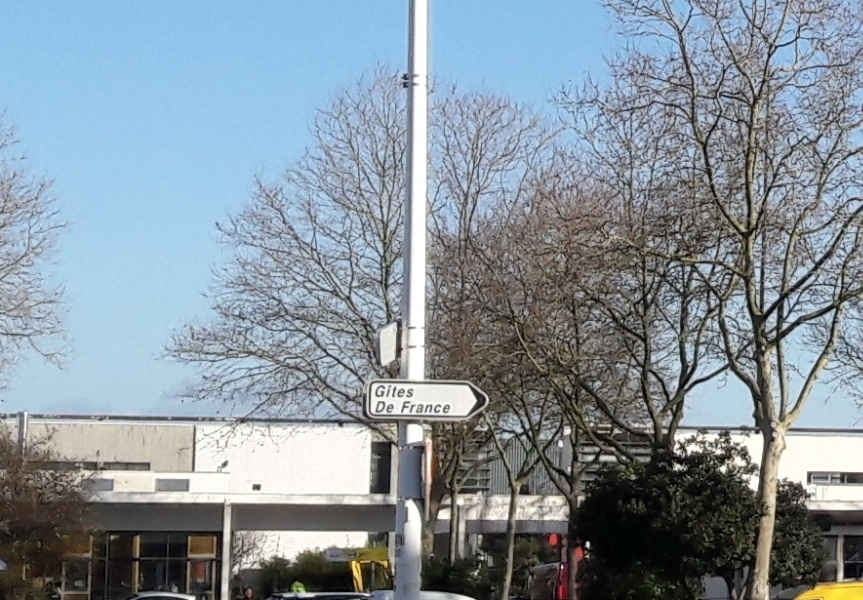text: (385, 385, 400, 399), (401, 401, 416, 414), (417, 401, 432, 414), (433, 401, 448, 414), (401, 385, 414, 399), (374, 385, 384, 399), (375, 401, 384, 413), (385, 401, 394, 413), (449, 401, 451, 414)
